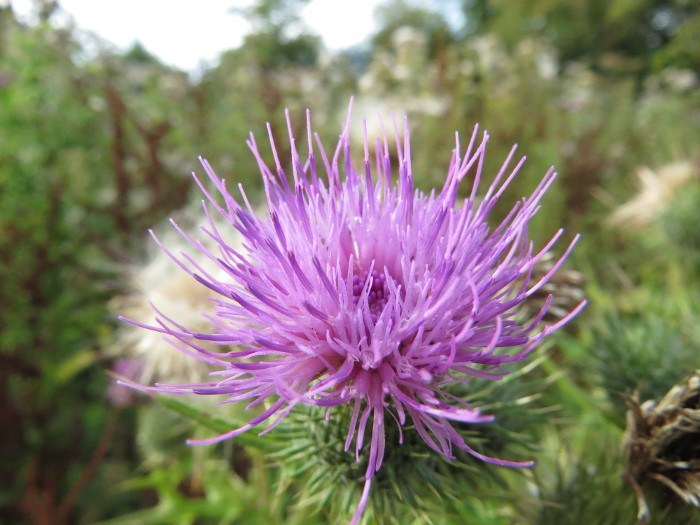thistle: (120, 112, 586, 525)
